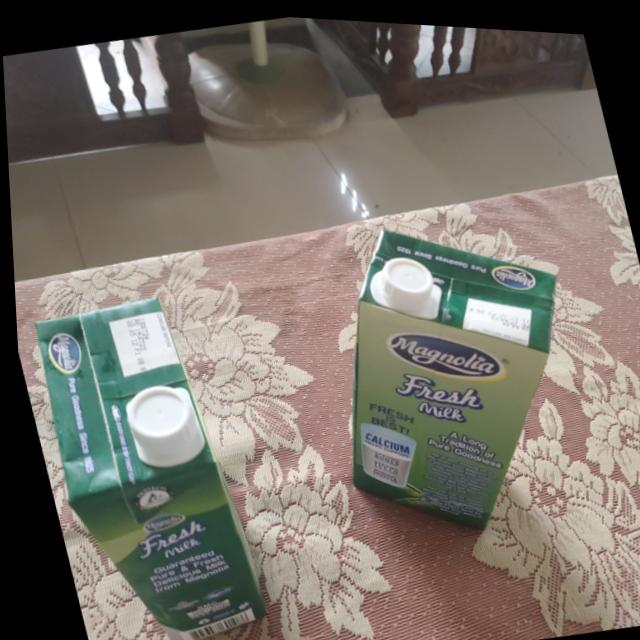milk: (288, 190, 615, 551), (17, 282, 264, 640)
